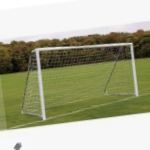goals: (18, 40, 144, 121)
